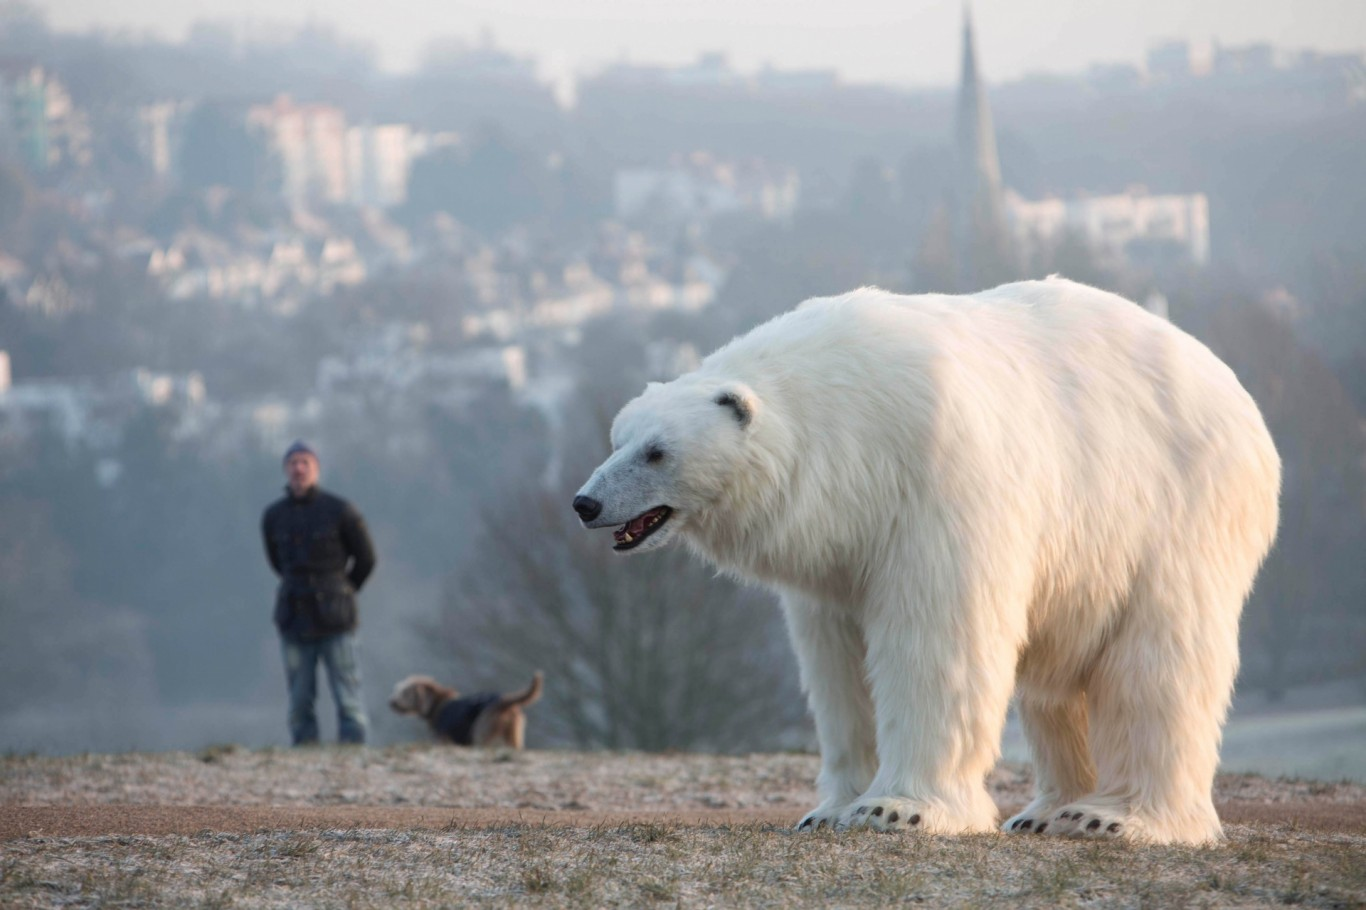Polar Bear: (538, 239, 1296, 869)
